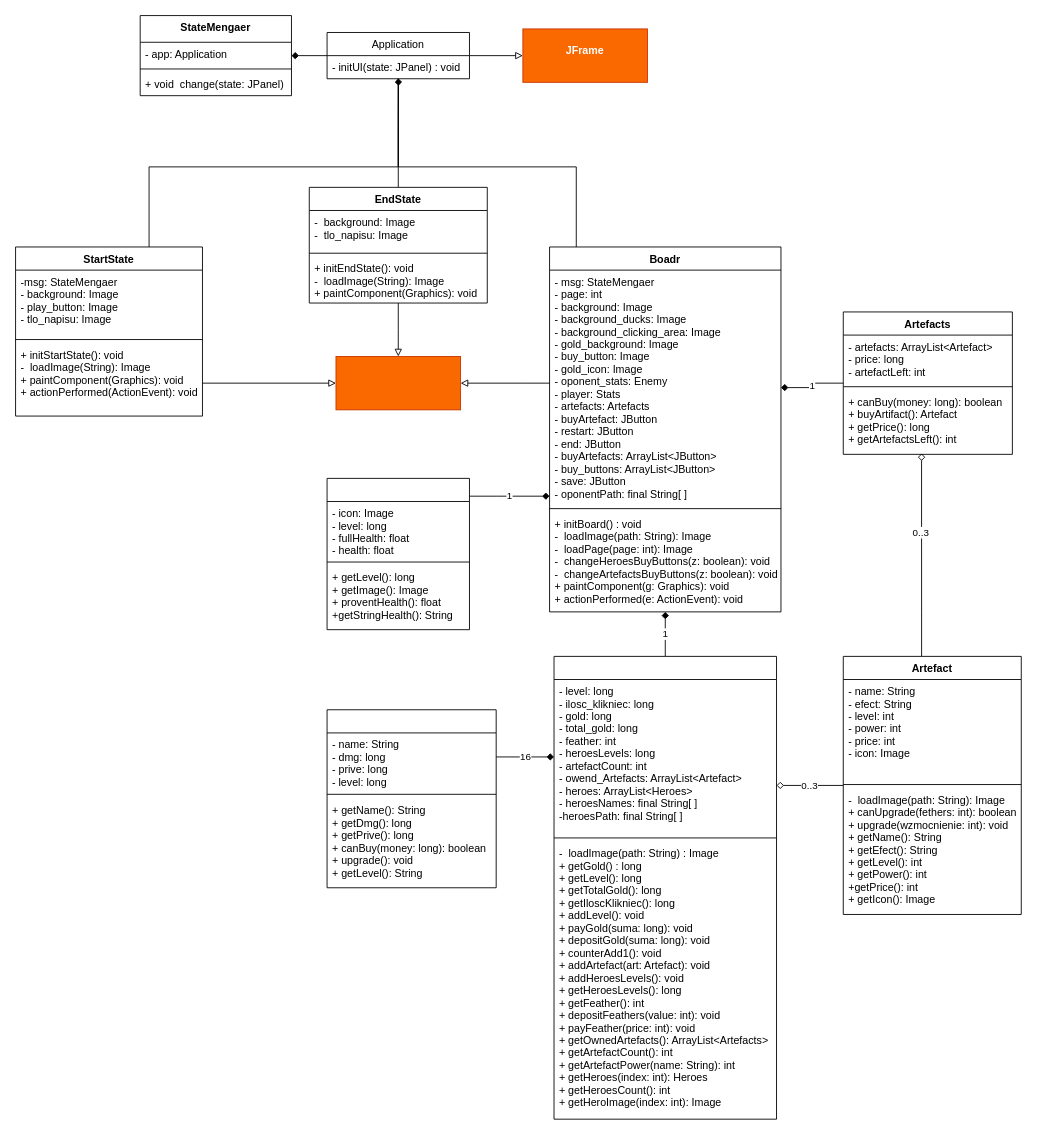
Some shapes in this 1037 by 1137 pixel diagram are drawn without their labels. Here are the shapes that lost their labels. From the top down, the box of each, then its label:
(335, 356, 461, 410): JPanel
(326, 477, 469, 630): Enemy
(326, 709, 496, 888): Heroes
(553, 655, 777, 1119): Stats
